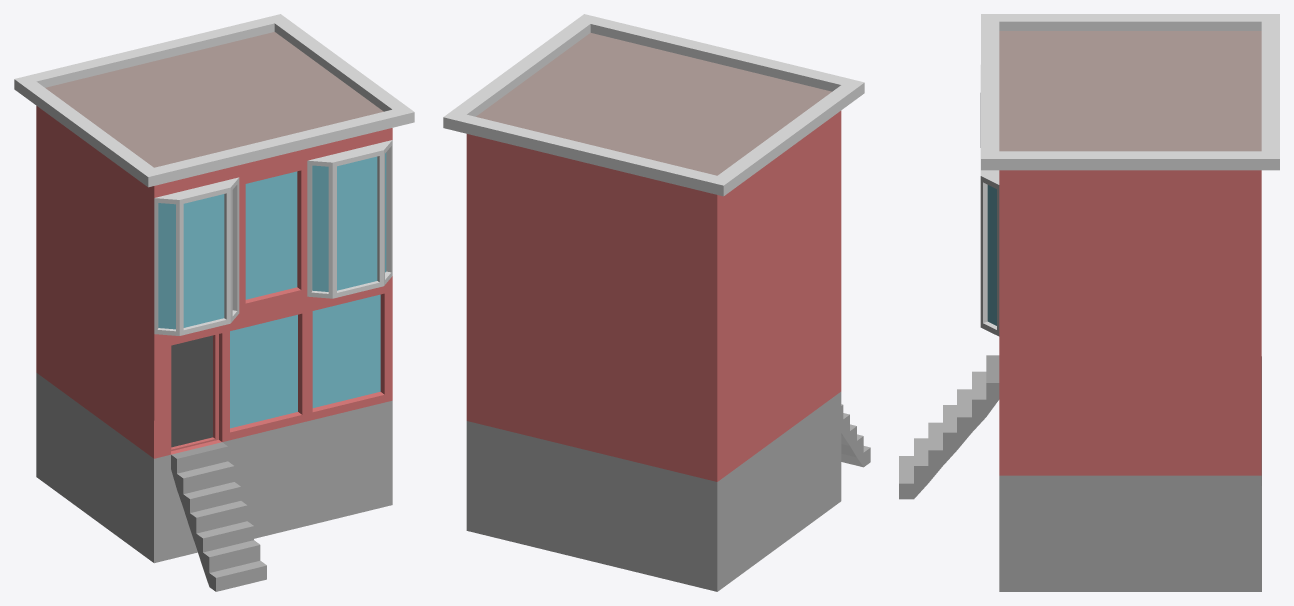
3 views of the same model, side by side, from view 1: azimuth 30°, elevation 25°; view 2: azimuth 150°, elevation 25°; view 3: azimuth 270°, elevation 25° (orthographic). The views are drawn at different scales.
Parts seen in each view (by area): view 1: pCube33; view 2: pCube33; view 3: pCube33.
Boxes of the visible parts, x1=… form: pCube33: x1=14, y1=14, x2=414, y2=591; pCube33: x1=443, y1=14, x2=870, y2=591; pCube33: x1=899, y1=14, x2=1279, y2=591.
Size of the model in its own units: 626 by 888 by 695.
